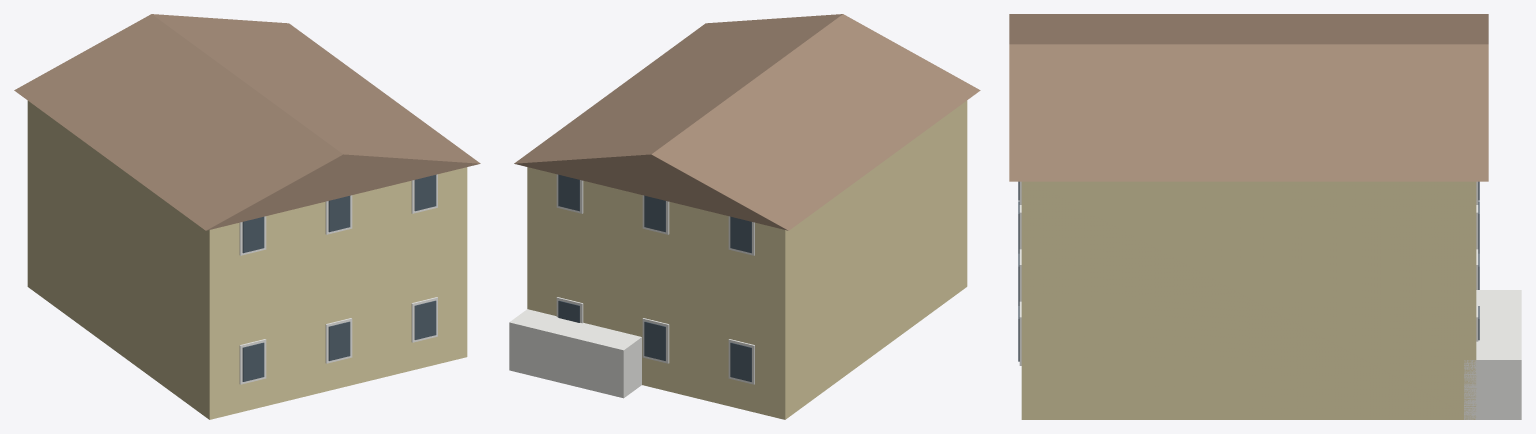
The model's file is clapboard_house.glb.
3 renders of one model, left to right at view 1: azimuth 30°, elevation 25°; view 2: azimuth 150°, elevation 25°; view 3: azimuth 270°, elevation 25°, orthographic. The views are drawn at different scales.
Parts seen in each view (by area): view 1: claphouse_body, claphouse_roof, win_bg0_0, win_bg0_1, win_bg0_2, win_bg1_0, win_bg1_1, win_bg1_2; view 2: claphouse_body, claphouse_roof, claphouse_porch, win_fg0_0, win_fg0_1, win_fg1_0, win_fg1_1, win_fg1_2; view 3: claphouse_body, claphouse_roof, claphouse_porch.
Part boxes in pixels (left/top/right/bottom): claphouse_body: left=27, top=101, right=467, bottom=419; claphouse_roof: left=14, top=14, right=480, bottom=230; win_bg0_0: left=242, top=342, right=264, bottom=381; win_bg0_1: left=328, top=321, right=350, bottom=360; win_bg0_2: left=414, top=300, right=436, bottom=339; win_bg1_0: left=242, top=216, right=264, bottom=253; win_bg1_1: left=328, top=196, right=350, bottom=232; win_bg1_2: left=414, top=175, right=436, bottom=211; claphouse_body: left=527, top=100, right=967, bottom=419; claphouse_roof: left=514, top=14, right=980, bottom=230; claphouse_porch: left=509, top=309, right=641, bottom=398; win_fg0_0: left=730, top=342, right=751, bottom=381; win_fg0_1: left=644, top=321, right=665, bottom=360; win_fg1_0: left=730, top=216, right=751, bottom=253; win_fg1_1: left=644, top=195, right=665, bottom=232; win_fg1_2: left=558, top=174, right=579, bottom=211; claphouse_body: left=1021, top=181, right=1476, bottom=419; claphouse_roof: left=1009, top=14, right=1488, bottom=181; claphouse_porch: left=1464, top=290, right=1521, bottom=419.
Size of the model in its own units: 9.6 by 7.93 by 12.4.
